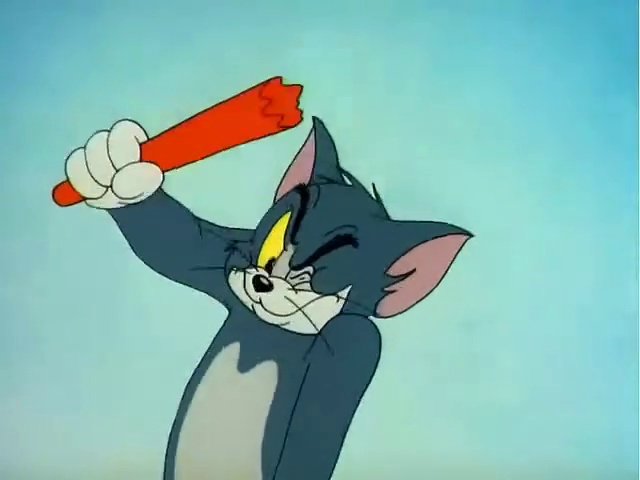tom: (31, 60, 516, 474)
